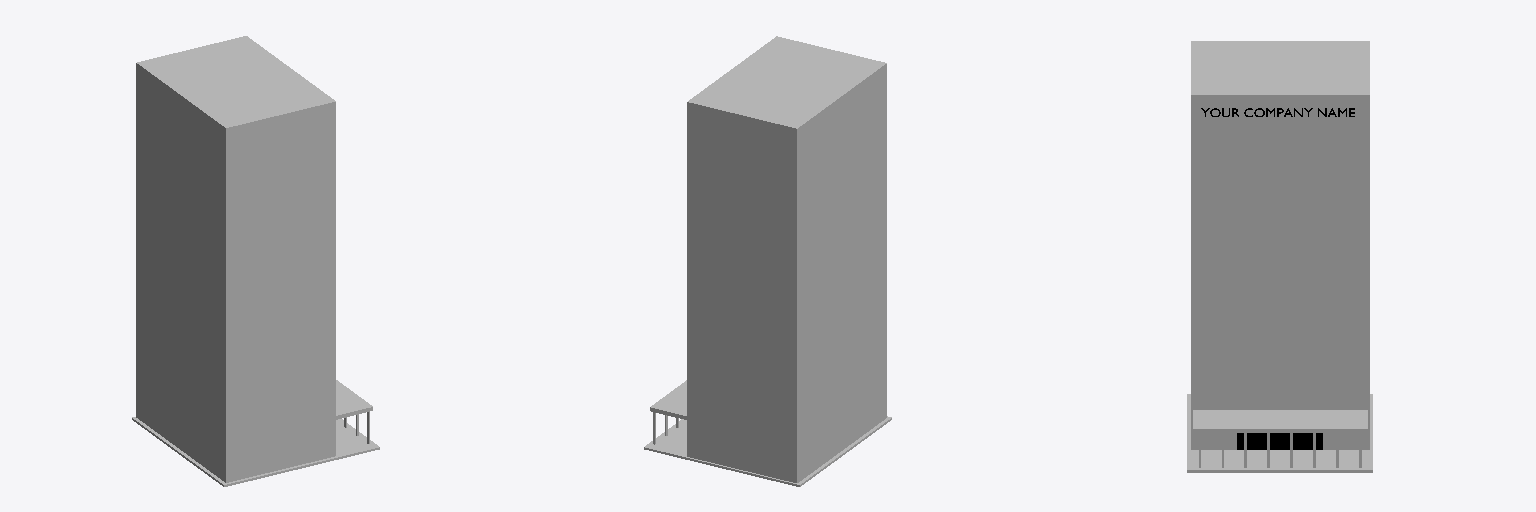
The model's file is MODERNBUILD.obj.
The picture shows the model from 3 angles: view 1: azimuth 30°, elevation 25°; view 2: azimuth 150°, elevation 25°; view 3: azimuth 270°, elevation 25°; orthographic projection.
Parts seen in each view (by area): view 1: Cube_Cube.001; view 2: Cube_Cube.001; view 3: Cube_Cube.001.
Boxes of the visible parts, x1=… form: Cube_Cube.001: x1=132, y1=36, x2=379, y2=486; Cube_Cube.001: x1=644, y1=36, x2=891, y2=486; Cube_Cube.001: x1=1187, y1=41, x2=1372, y2=472.
Bounding box in the file's own units: 15.43 × 33.72 × 15.85.